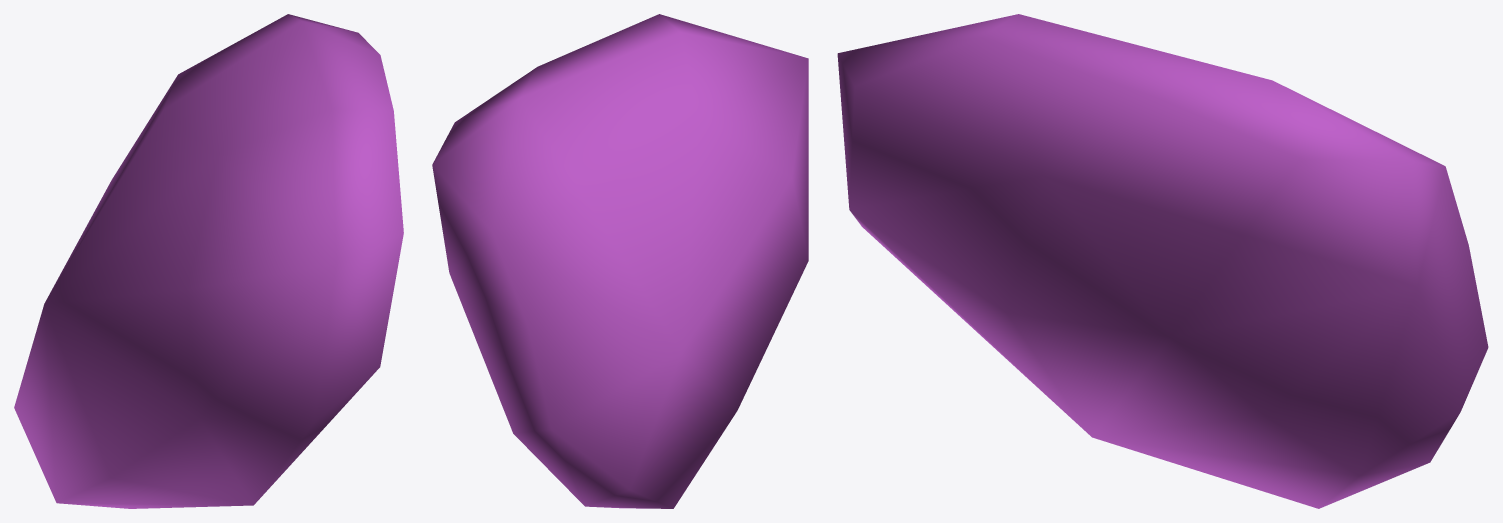
The picture shows the model from 3 angles, left to right: view 1: azimuth 30°, elevation 25°; view 2: azimuth 150°, elevation 25°; view 3: azimuth 270°, elevation 25°; orthographic projection. The views are drawn at different scales.
Parts seen in each view (by area): view 1: SM_F; view 2: SM_F; view 3: SM_F.
Part boxes in pixels (x1,y1,x2,y2): SM_F: [14, 14, 403, 508]; SM_F: [432, 14, 808, 508]; SM_F: [837, 14, 1488, 508].
Bounding box in the file's own units: 4.4 × 6.73 × 7.51.
